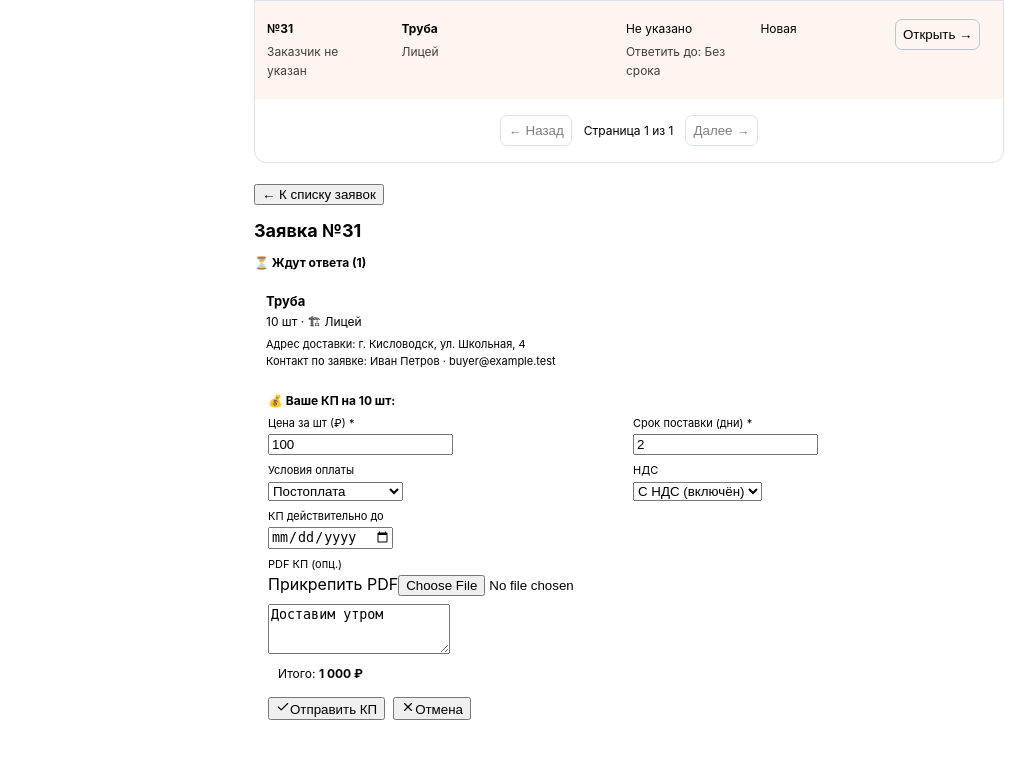
supplier offer submission › keeps the original draft version when a refreshed offer has changed
The width and height of the screenshot is (1024, 768).
(page scrolled)
Click the button "Отправить КП": (327, 708) [268,697,385,720]
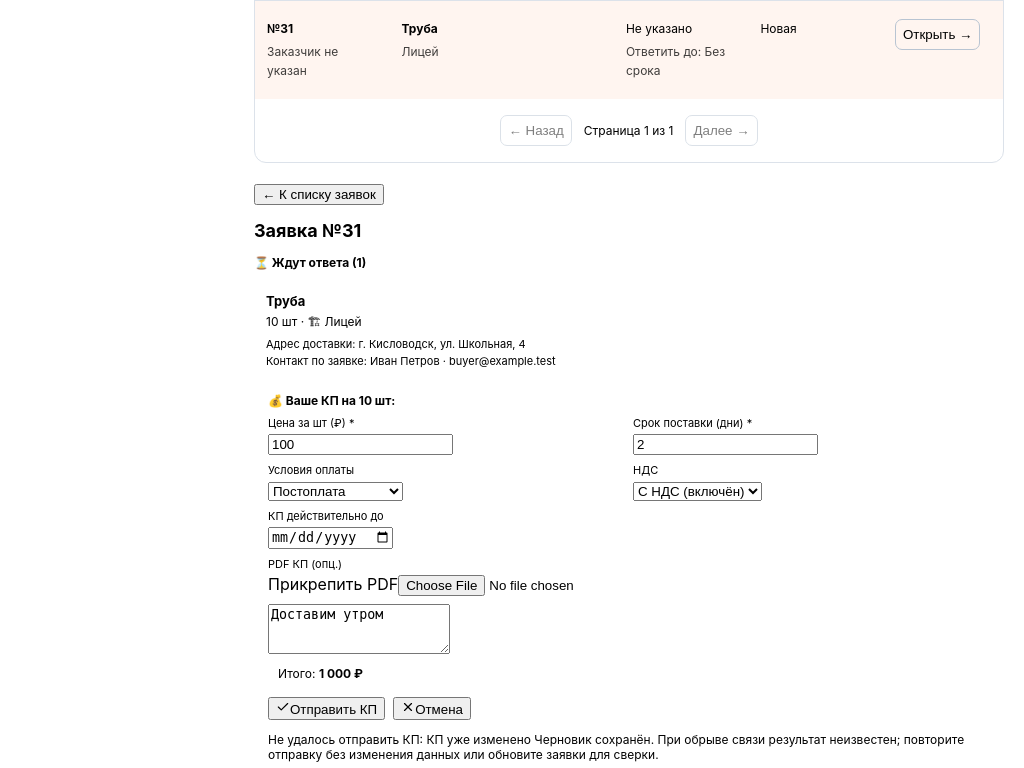
expect the text box showing "Доставим утром" is shown: met, box [268,604,450,654]
expect the message is shown: met, box [268,732,990,762]
